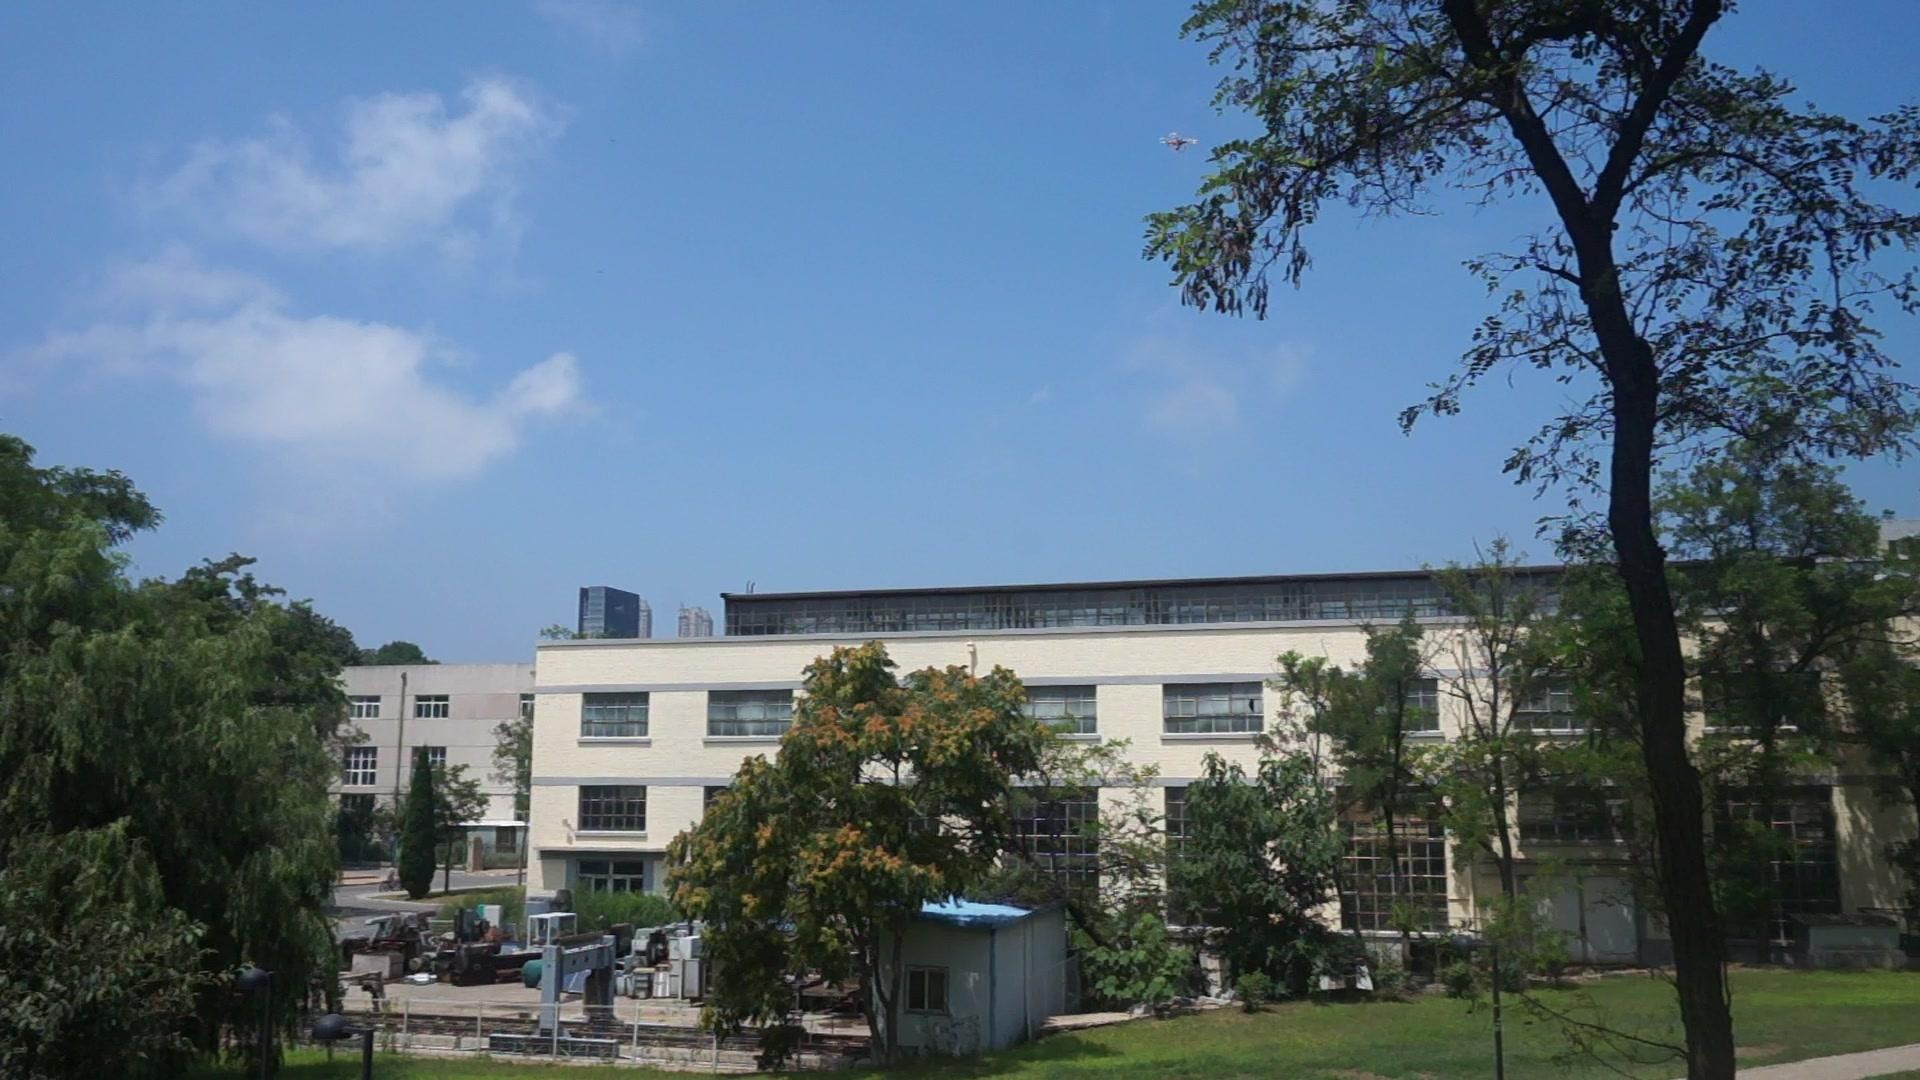UAV: (1156, 133, 1199, 152)
